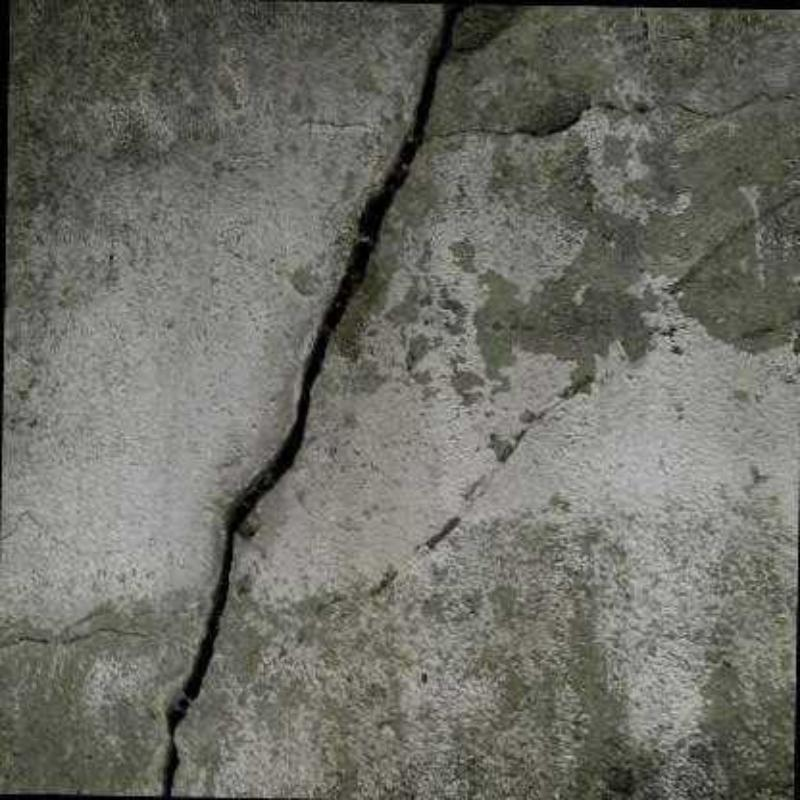crack: (168, 0, 472, 795), (306, 263, 702, 619), (419, 92, 798, 142), (704, 192, 798, 262), (15, 629, 150, 646), (0, 512, 42, 542), (300, 121, 369, 127)
